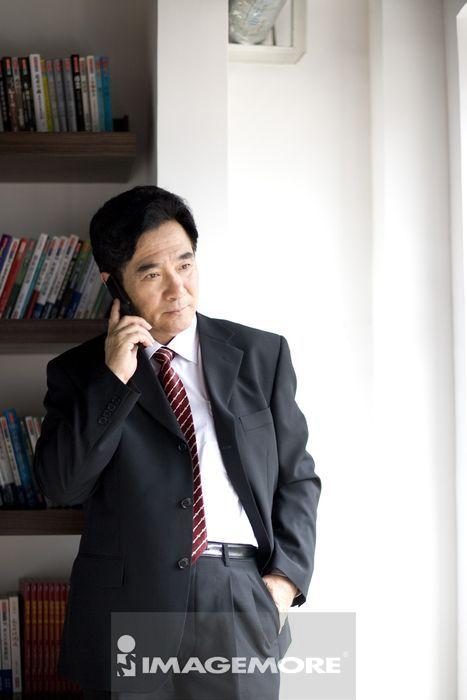talk: (101, 248, 200, 374)
